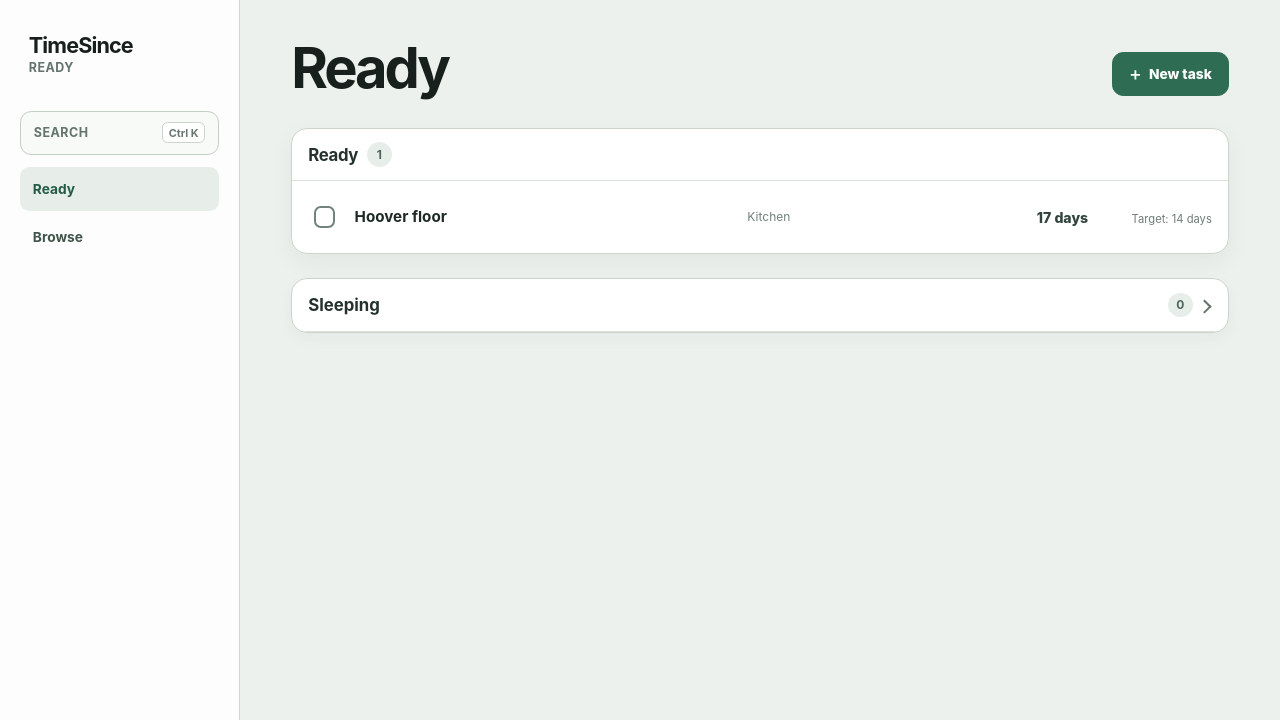
Test: Ready view › opens editing from a task row and preserves values after an API error
Click the button with aria-label "Edit Hoover floor".
click(781, 217)  # box [351,188,1212,246]
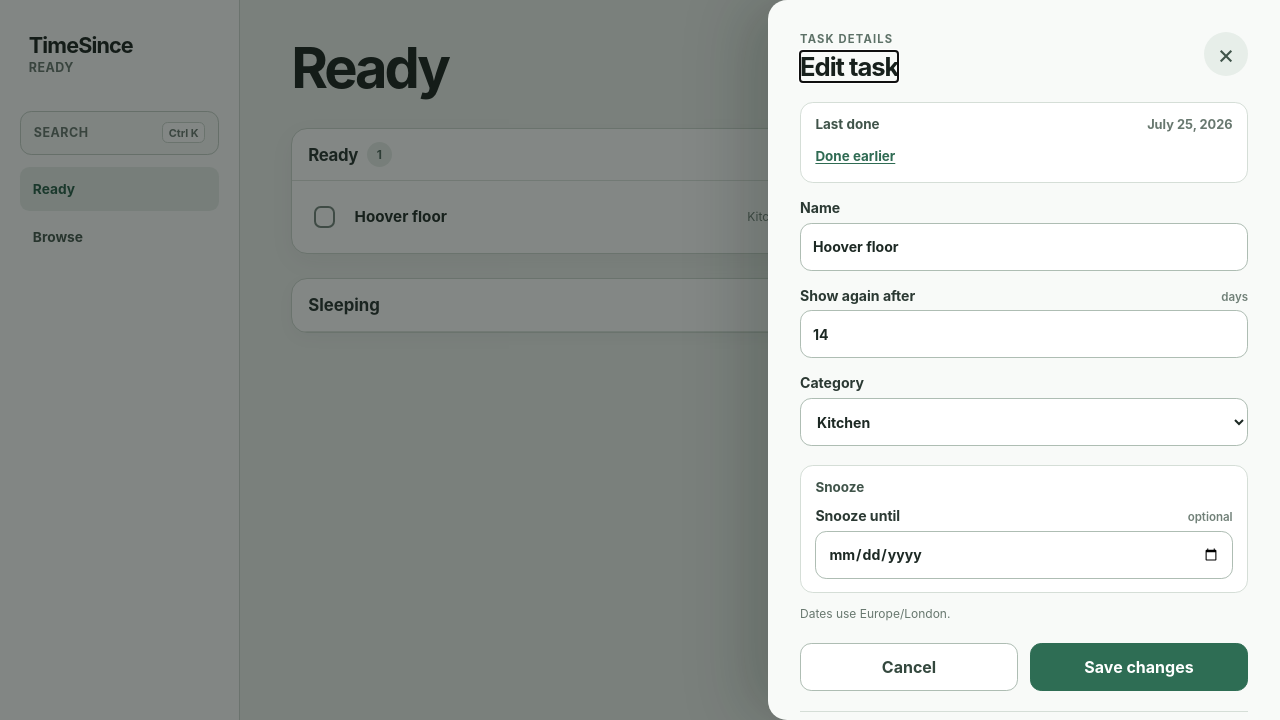
Result: the text "Last done" is shown at [815,116,880,132]
Result: the date field labelled "Snooze until optional" is shown at [815,531,1233,579]
Replace the text in the field labelled "Name" with "Vacuum floors" at (1024, 247), box [800,223,1248,271]
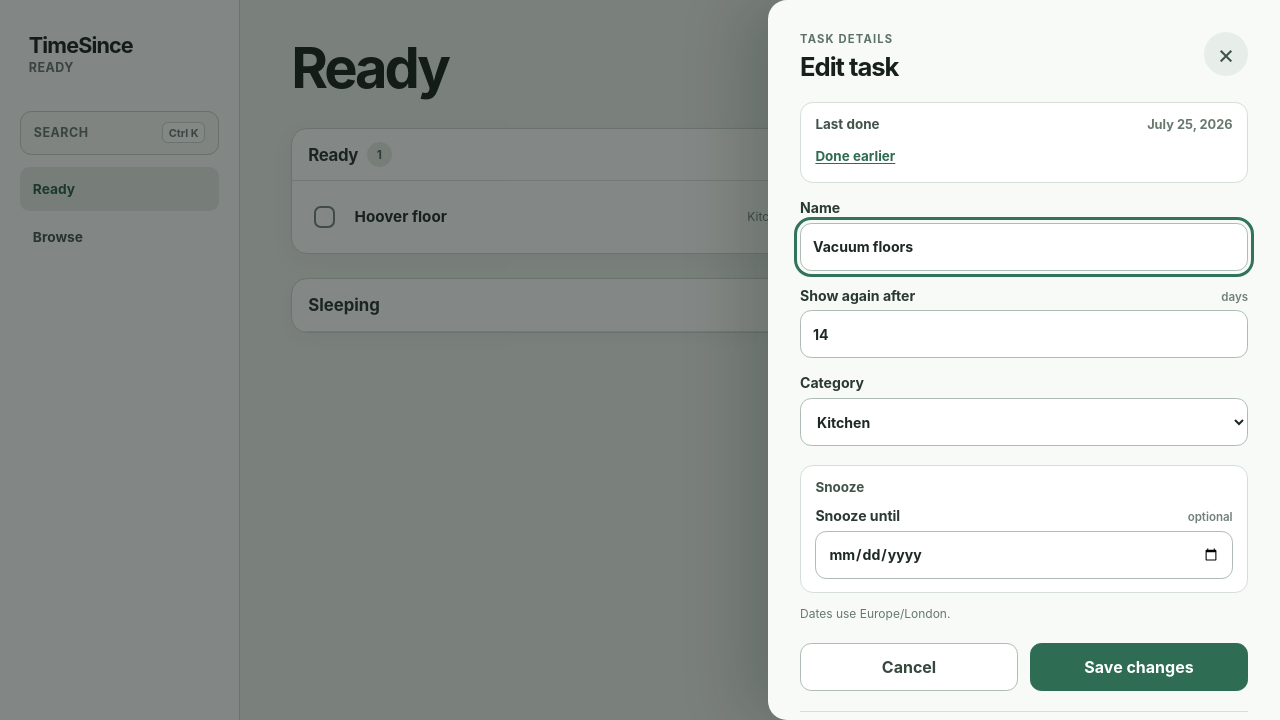
Click the button "Save changes".
click(1139, 667)  # box [1030,643,1248,691]
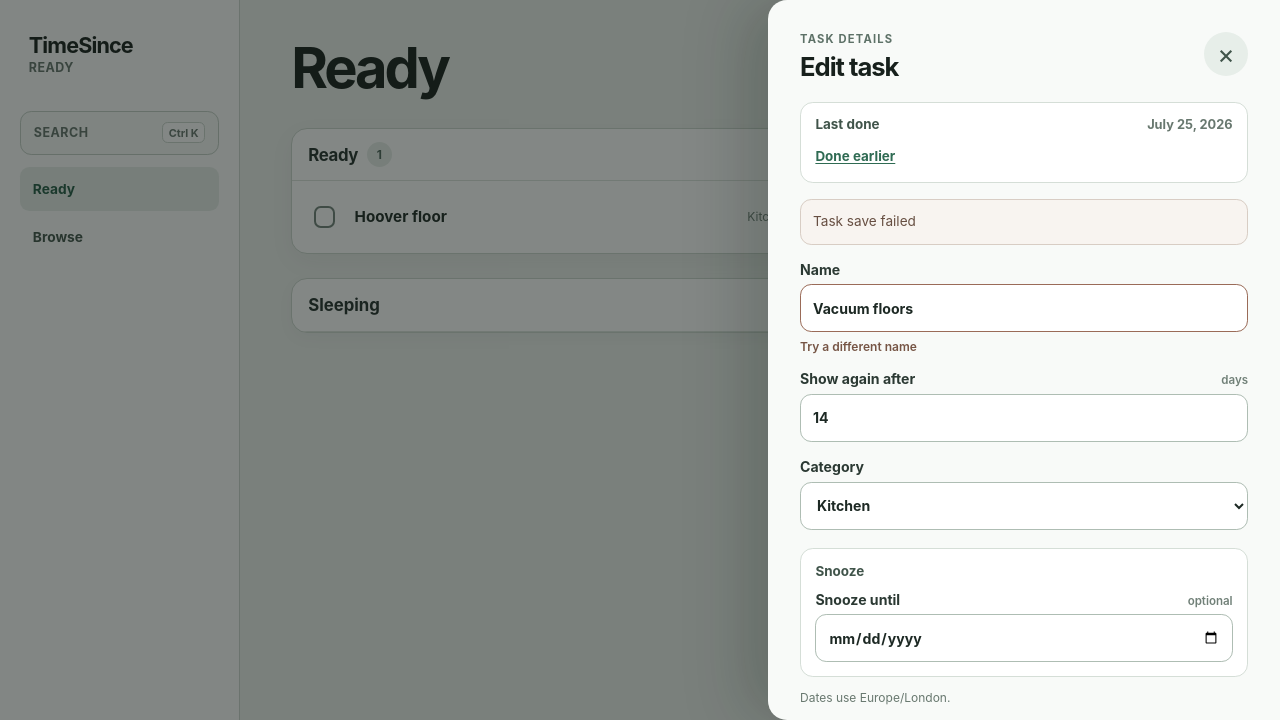
Result: the text "Try a different name" is shown at [800,339,917,354]
Clear the field labelled "Name" at (1024, 308), box [800,284,1248,332]
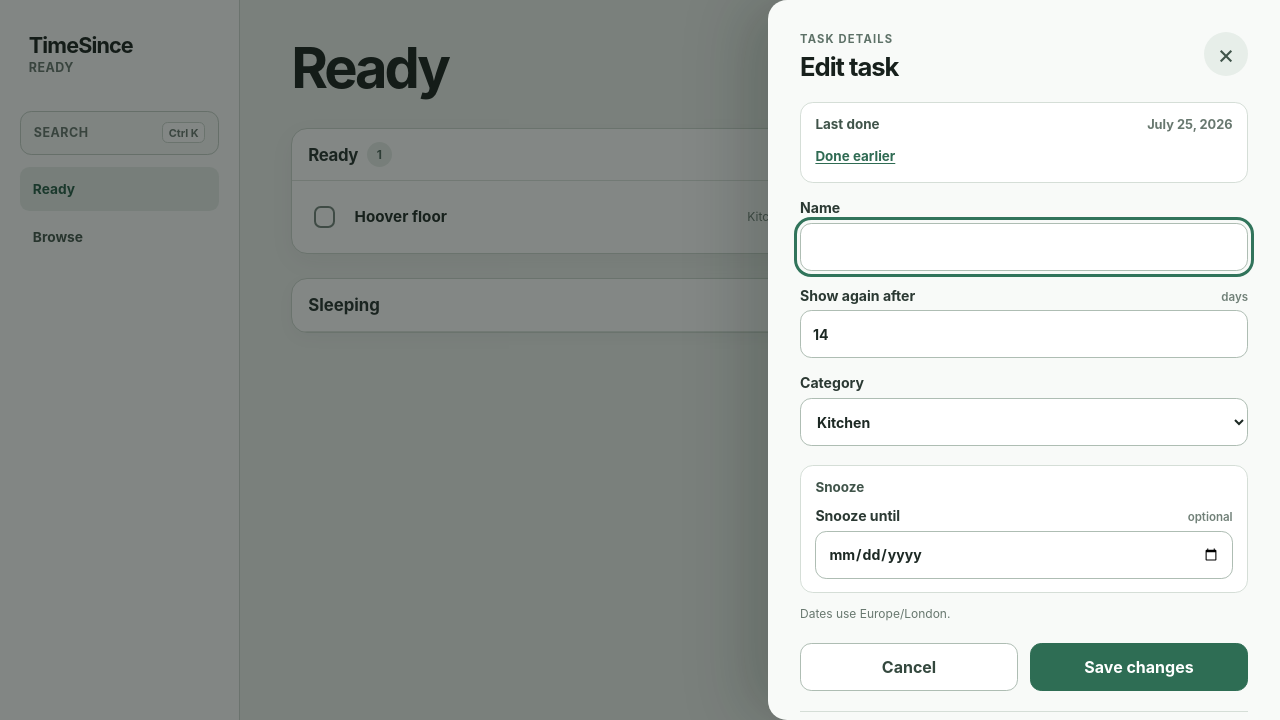
Type "Vacuum floor" into the field labelled "Name".
click(1024, 247); type("Vacuum floor")  # box [800,223,1248,271]
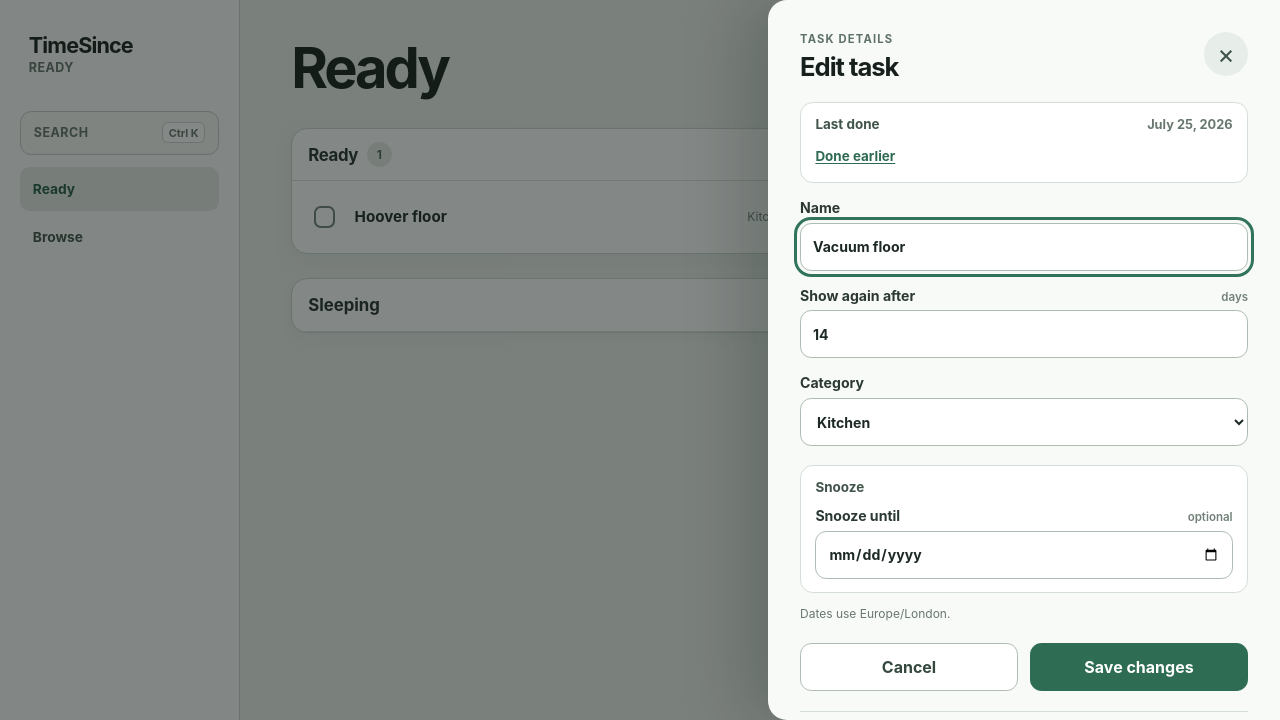
Click the button "Save changes".
click(1139, 667)  # box [1030,643,1248,691]
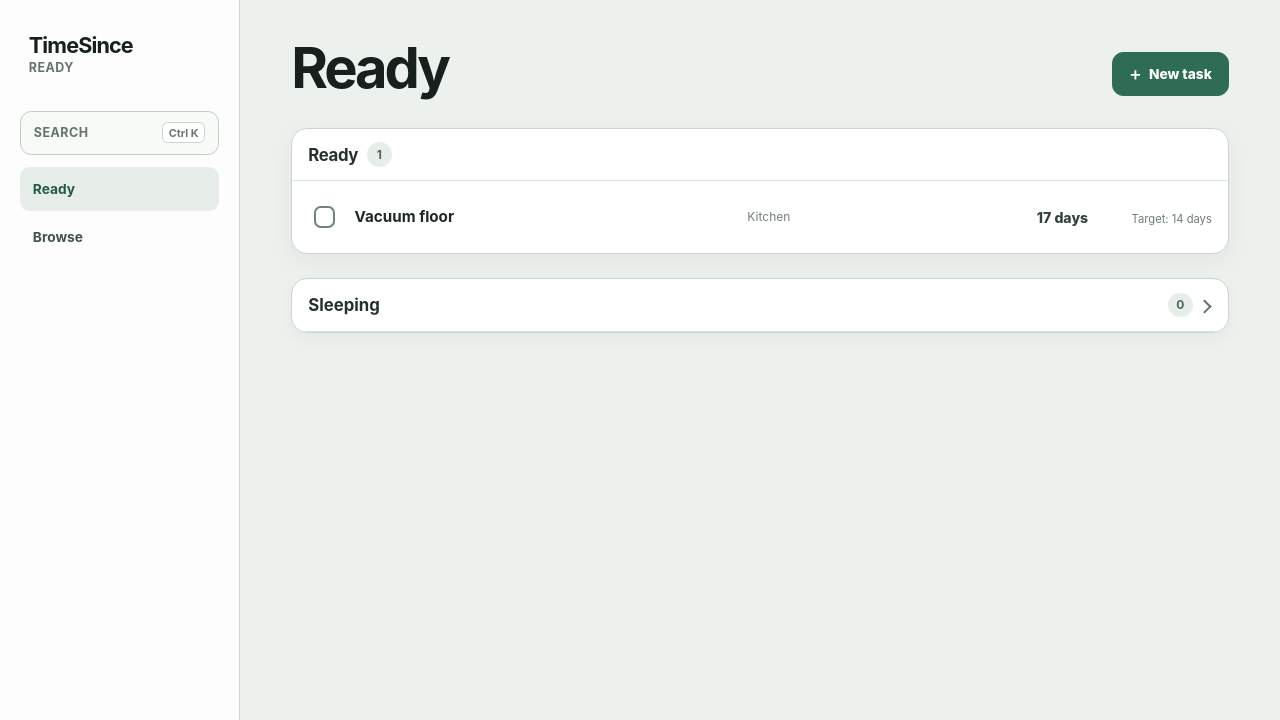
Result: the button with aria-label "Edit Vacuum floor" is shown at [351,188,1212,246]
Result: the dialog is gone
